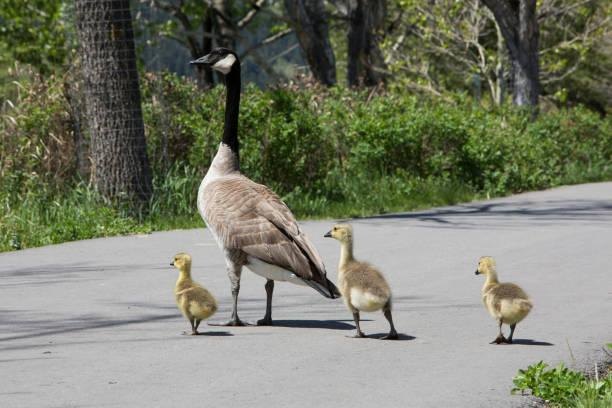Canadian-Goose: (185, 47, 334, 316), (323, 221, 399, 339), (472, 254, 534, 342), (169, 252, 216, 323)
